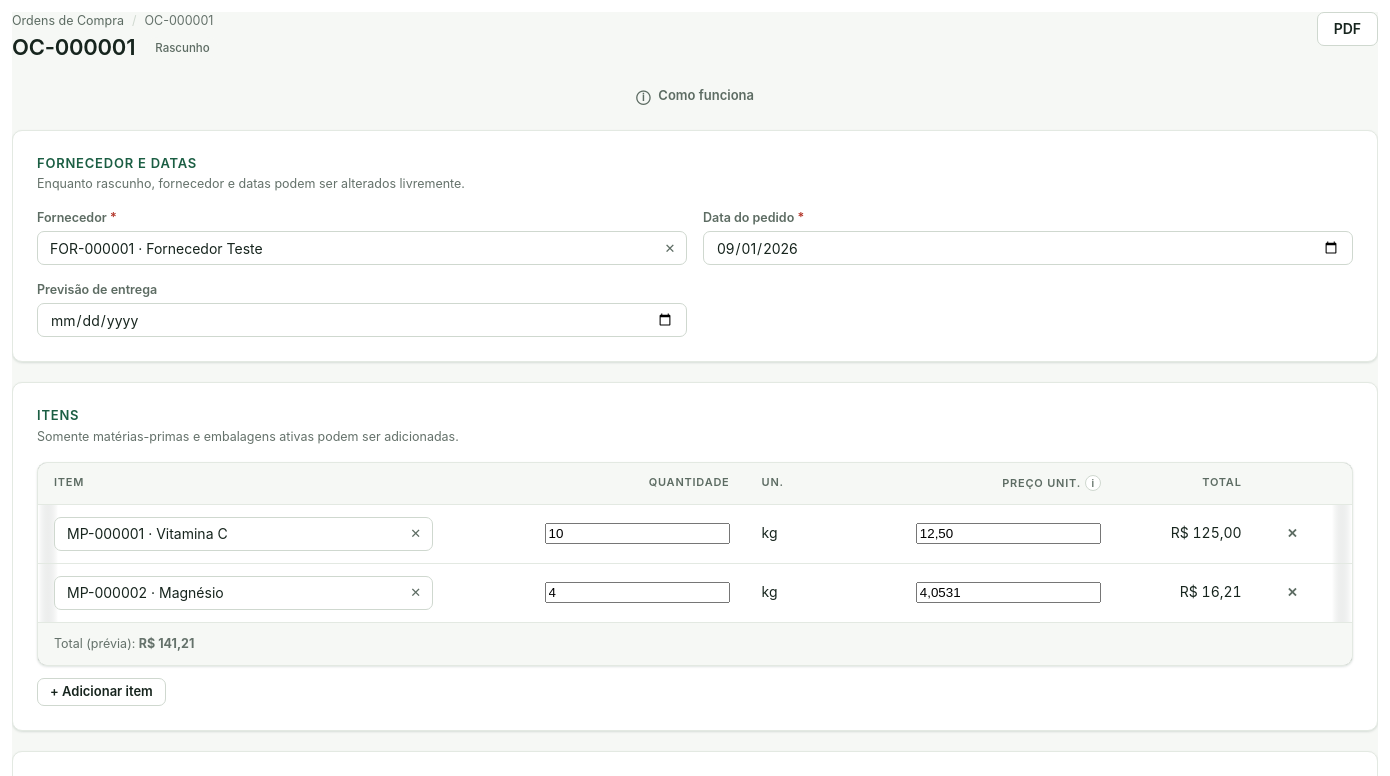
it: Total da OC em edição é prévia da tela › A/C. quantidade muda → subtotal da linha e total mudam juntos; o gravado aparece rotulado
Check: the heading "OC-000001" is shown, box [12,34,135,62]
Step 1. Replace the text in the field named "Quantidade de MP-000001" with "20" → {"x": 637, "y": 534}, box [545,523,730,544]
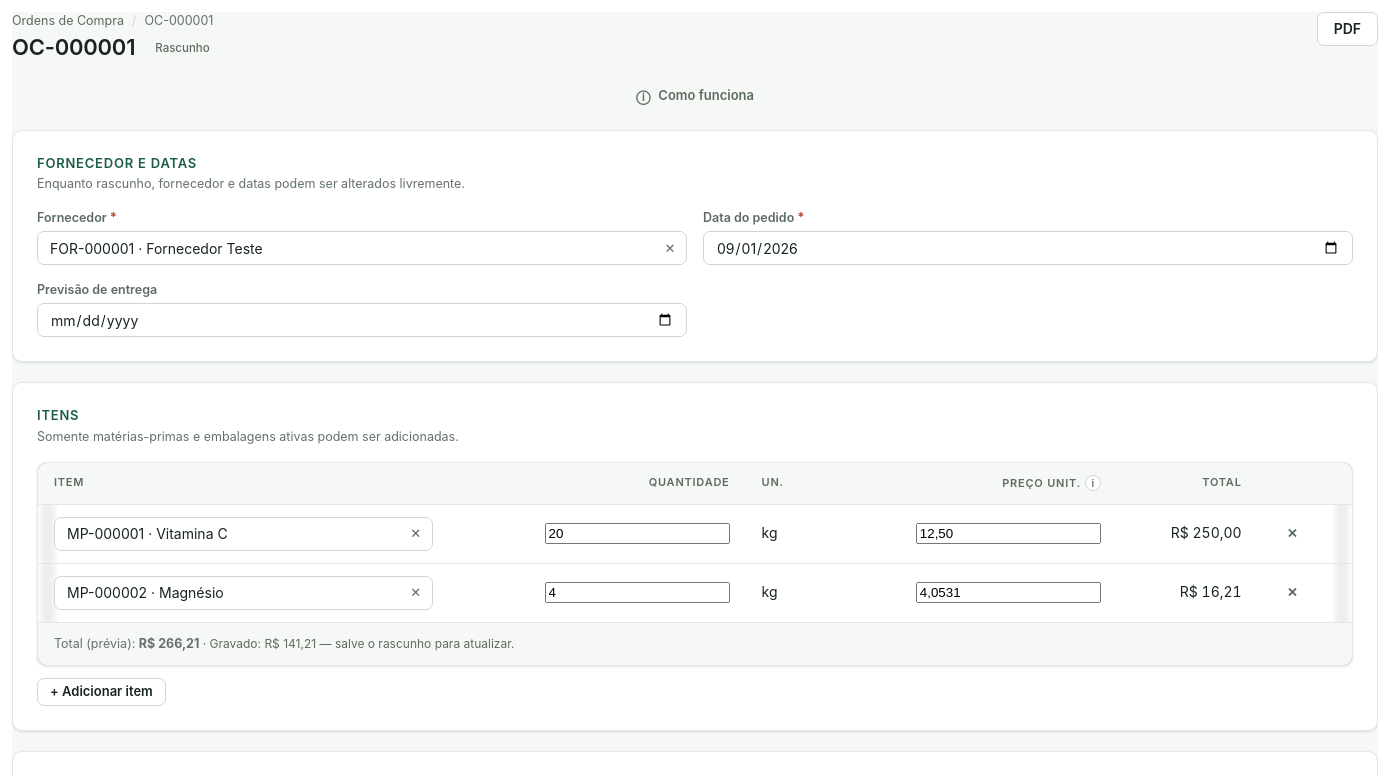
Check: the cell "R$ 250,00" is shown, box [1117,504,1258,563]
Check: the element with class "table-foot" shows "Total (prévia): R$ 266,21", box [38,622,1352,665]
Check: the element with class "table-foot" shows "Gravado: R$ 141,21", box [38,622,1352,665]
